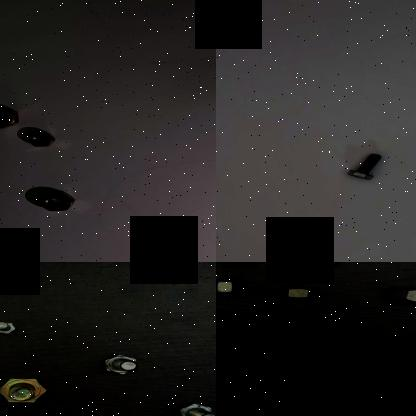Bolts: (0, 375, 55, 405), (344, 148, 385, 181), (98, 352, 147, 376), (170, 399, 216, 416), (0, 316, 24, 338)
NUTS: (280, 282, 328, 306), (35, 190, 79, 214), (384, 283, 416, 307), (216, 270, 241, 300), (25, 132, 55, 147), (0, 104, 18, 129), (300, 262, 345, 269)
